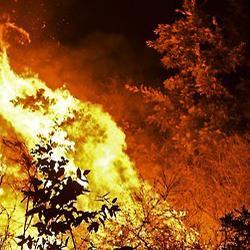fire: (54, 108, 116, 168), (93, 171, 143, 215), (6, 109, 51, 139)
